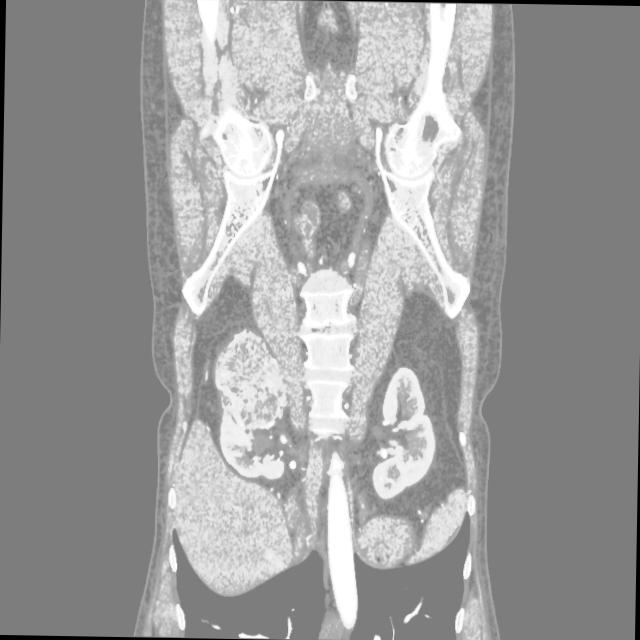TUMOR: (136, 248, 548, 453)
